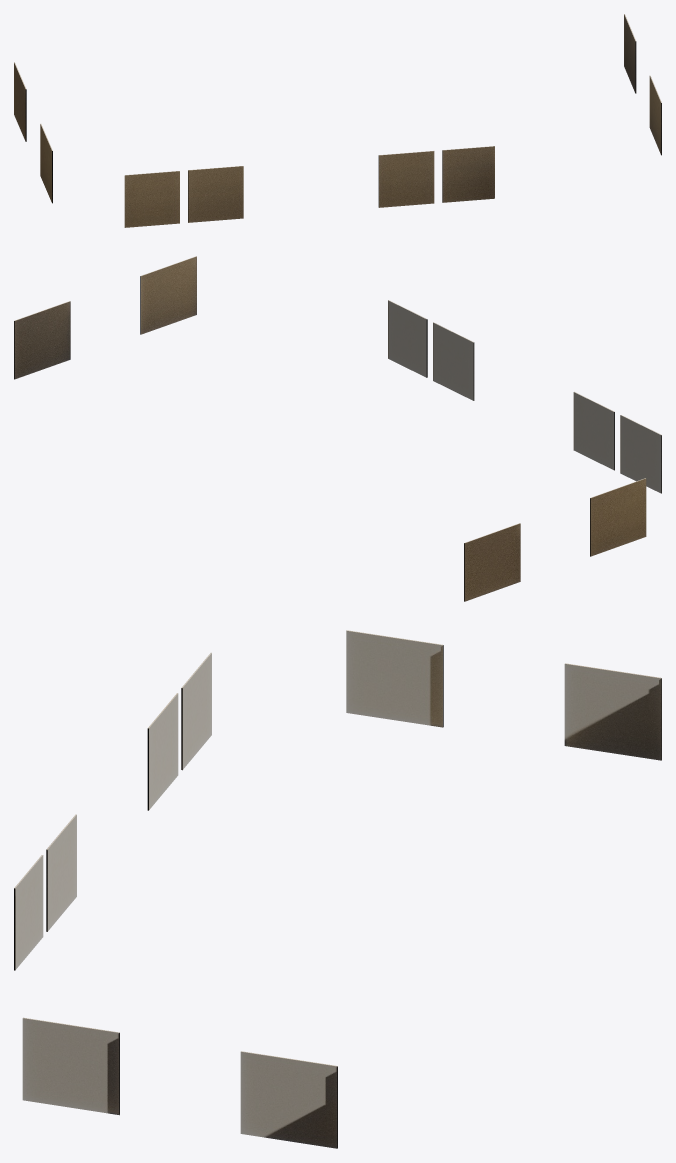
Rendered from Building_05_App_01_Glass.fbx.
3 renders of one model, top to bottom at view 1: azimuth 30°, elevation 25°; view 2: azimuth 150°, elevation 25°; view 3: azimuth 270°, elevation 25°, orthographic. The views are drawn at different scales.
Parts seen in each view (by area): view 1: Building_05_App_01_Glass; view 2: Building_05_App_01_Glass; view 3: Building_05_App_01_Glass.
Part boxes in pixels (bbox=[...]): Building_05_App_01_Glass: bbox=[14, 14, 661, 227]; Building_05_App_01_Glass: bbox=[14, 256, 661, 601]; Building_05_App_01_Glass: bbox=[14, 630, 661, 1148].
Bounding box in the file's own units: 15.76 × 1.38 × 9.89.
Materials: 1 (1 with a texture image).
